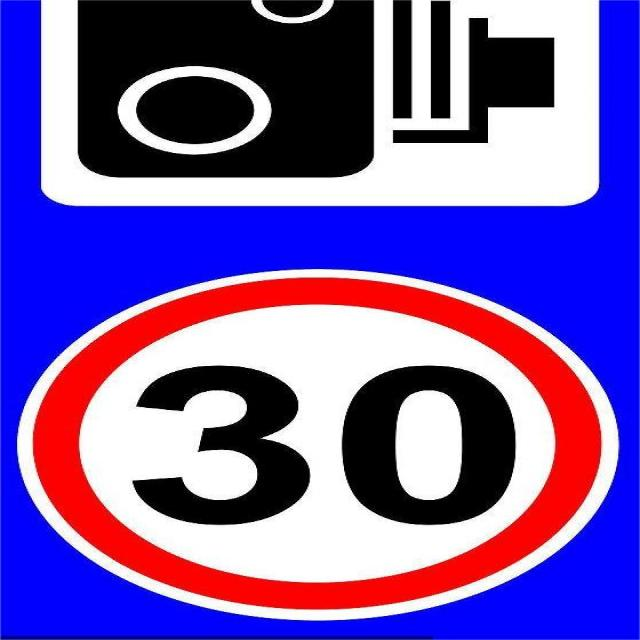speed limit 30: (7, 269, 622, 625)
